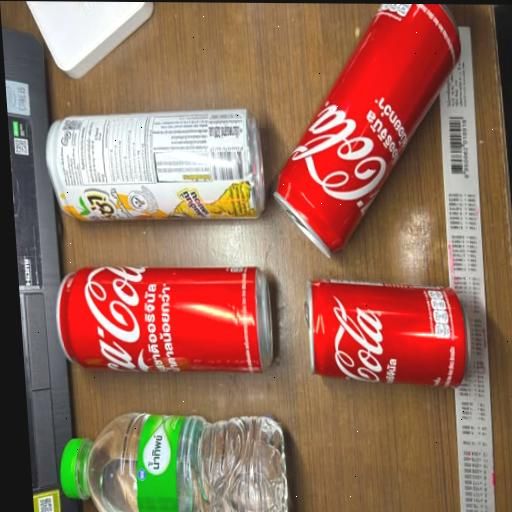ba: (43, 393, 314, 512)
bottle: (258, 3, 471, 275), (29, 63, 275, 237), (42, 257, 295, 387), (293, 263, 478, 396)
